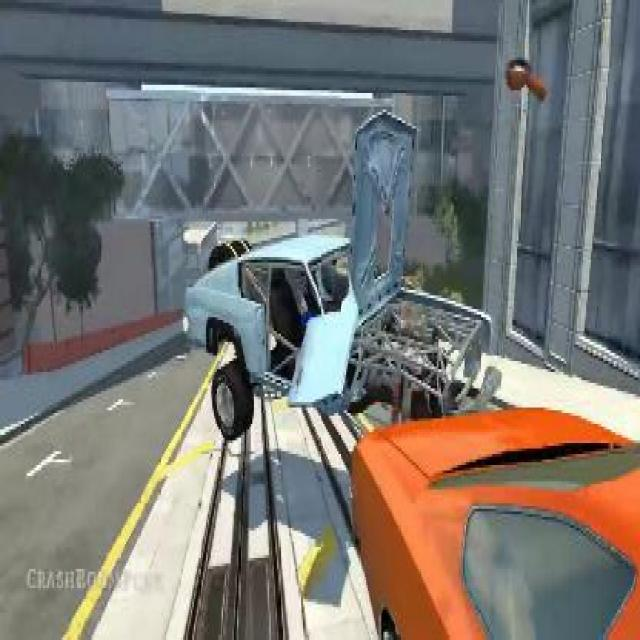accident: (176, 106, 638, 640)
